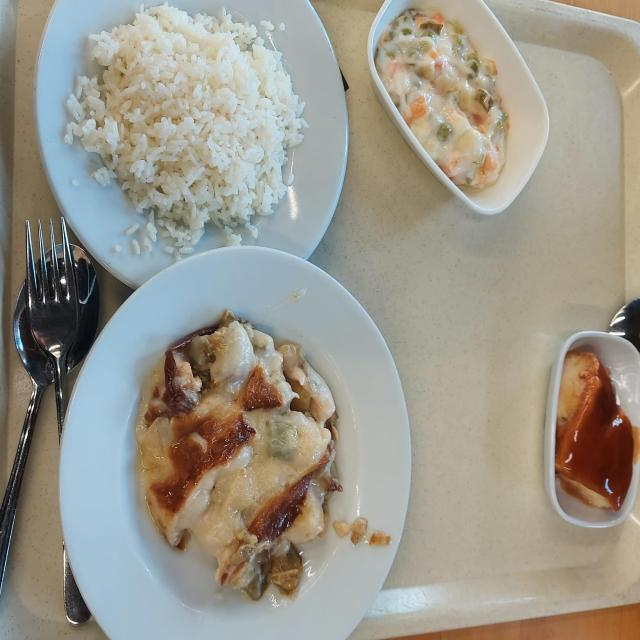ana_yemek: (57, 249, 385, 634), (32, 2, 343, 286)
yan_yemek: (368, 0, 548, 216), (542, 331, 639, 528)
